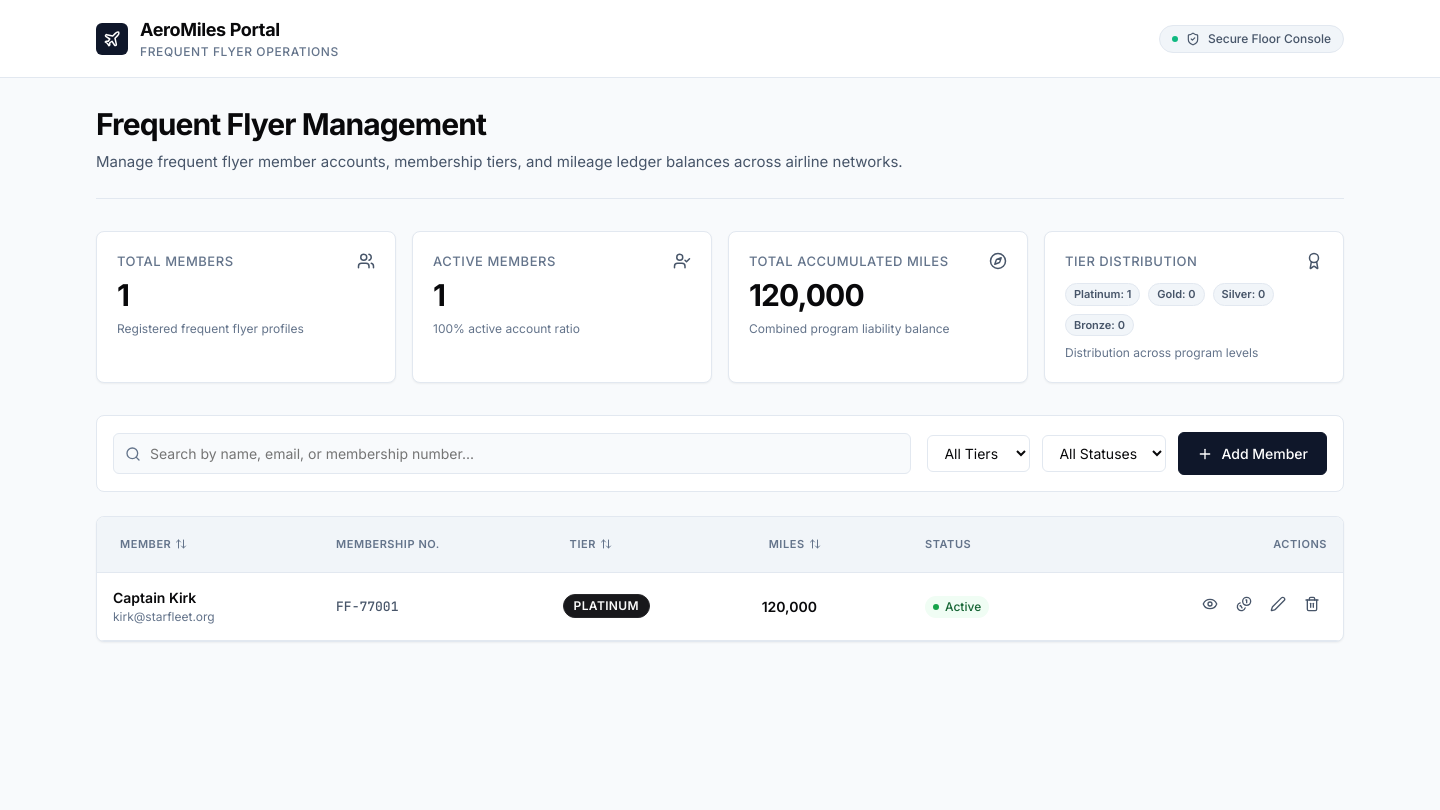
it: Happy-Path Tests (TRD Section 9) › 4. Member details can be viewed in a dedicated detail modal
This screenshot has width=1440, height=810.
Click the button named "view details for captain kirk" at [1210, 606], box [1195,588,1225,624]
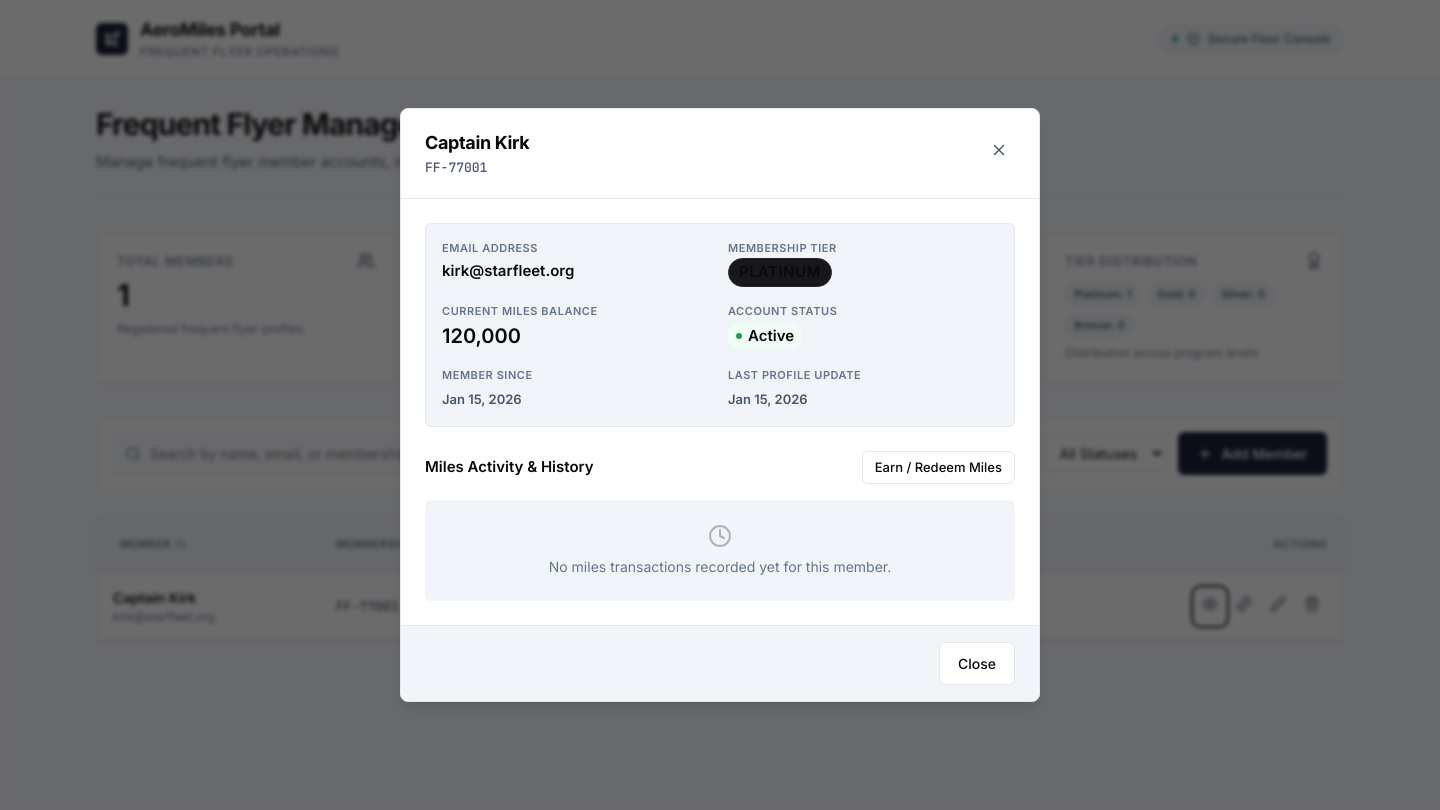
Check: the dialog is shown, box [400,108,1040,702]
Check: the text "FF-77001" is shown, box [425,159,487,176]
Check: the text "120,000" is shown, box [442,324,521,348]
# Close button
Click the button "Close" at [977, 664], box [939,642,1015,685]
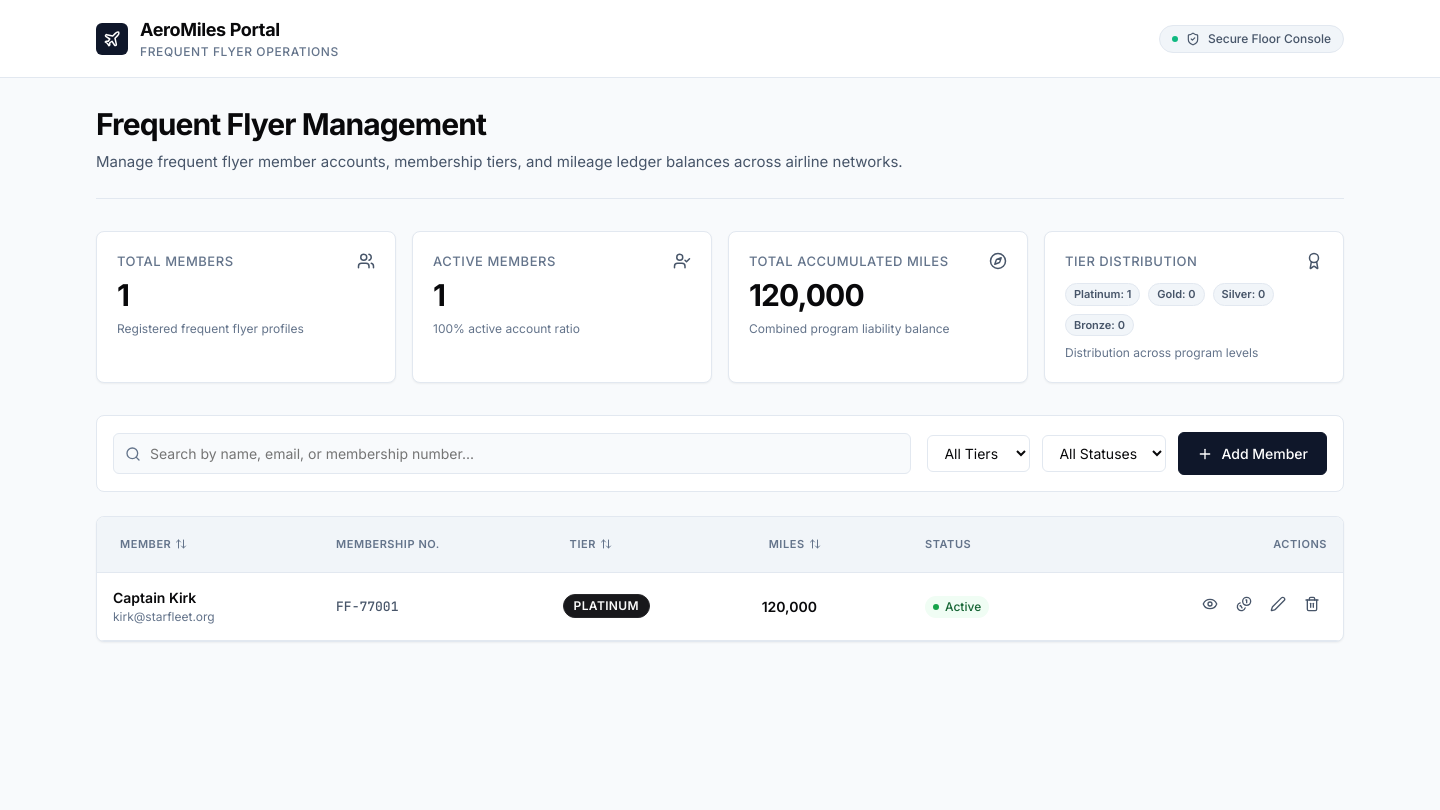
Check: the dialog is gone
